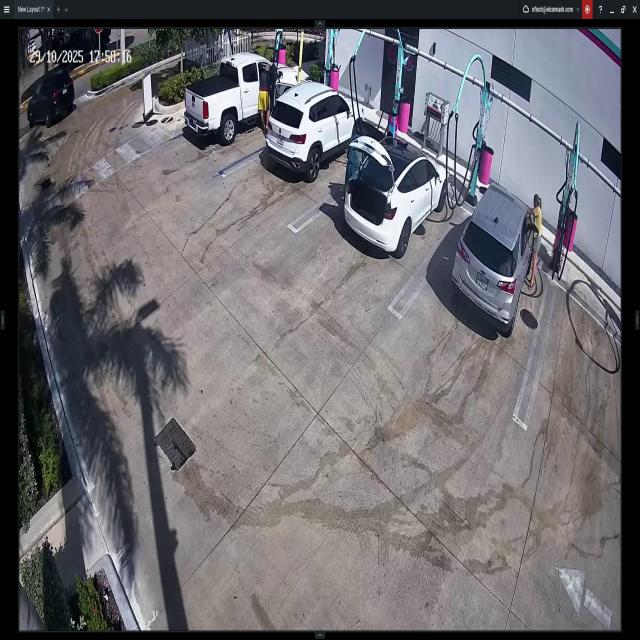Car: (449, 184, 533, 334), (344, 136, 447, 248), (184, 58, 297, 146), (264, 88, 366, 182), (26, 70, 75, 123)
